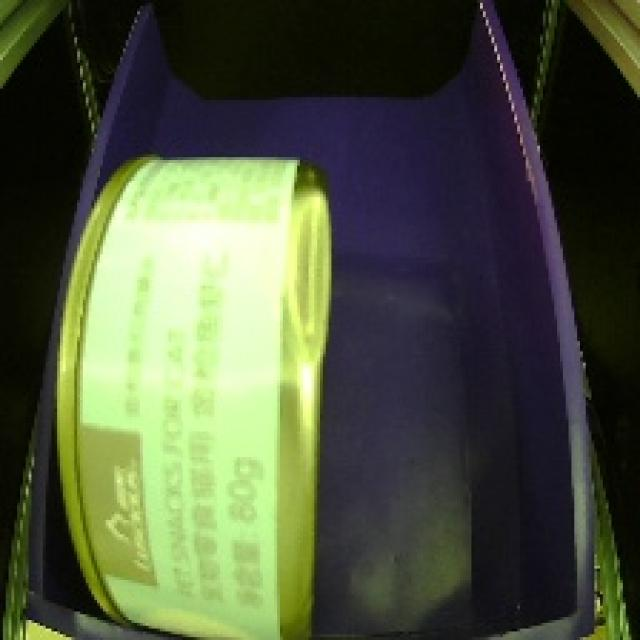metal: (30, 140, 349, 640)
